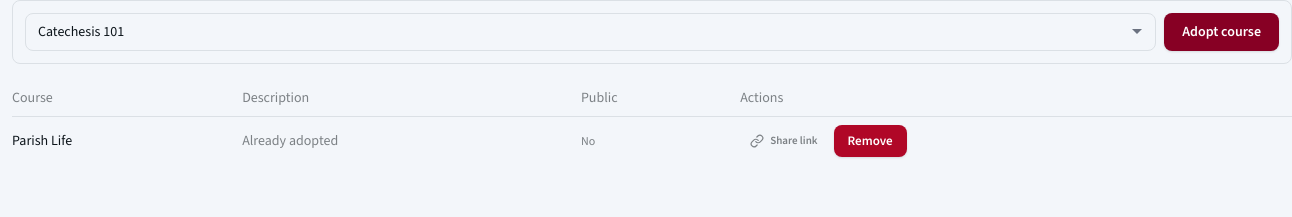
Test: ParishCourseAdoptionManager › shows success message after adopting a course
This screenshot has width=1292, height=217.
Click the button "Adopt course": coordinates (1222, 32) [1164,13,1279,51]
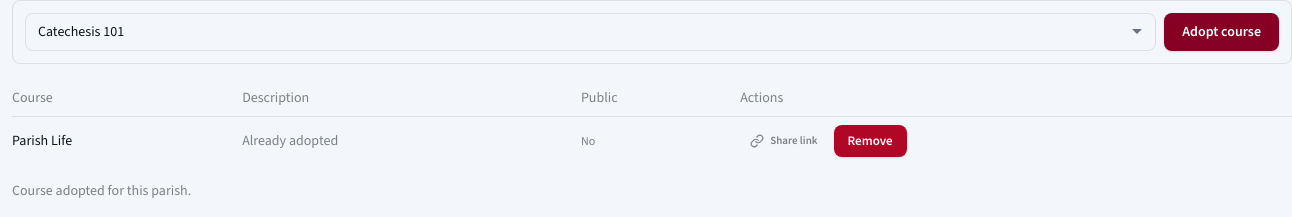
Check: the text "Course adopted for this parish." is shown, box [12,181,191,200]
